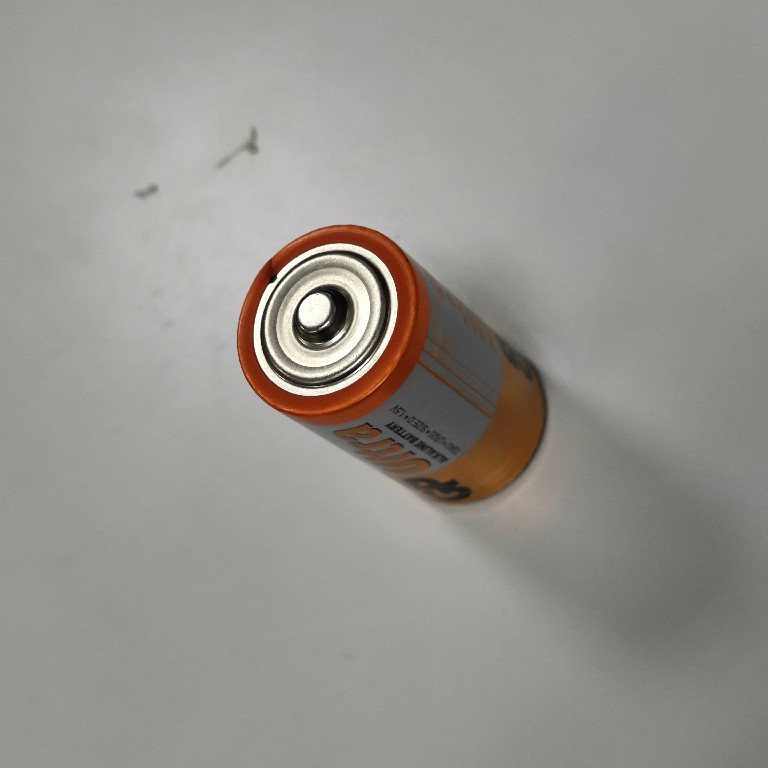charge: (230, 218, 552, 513)
